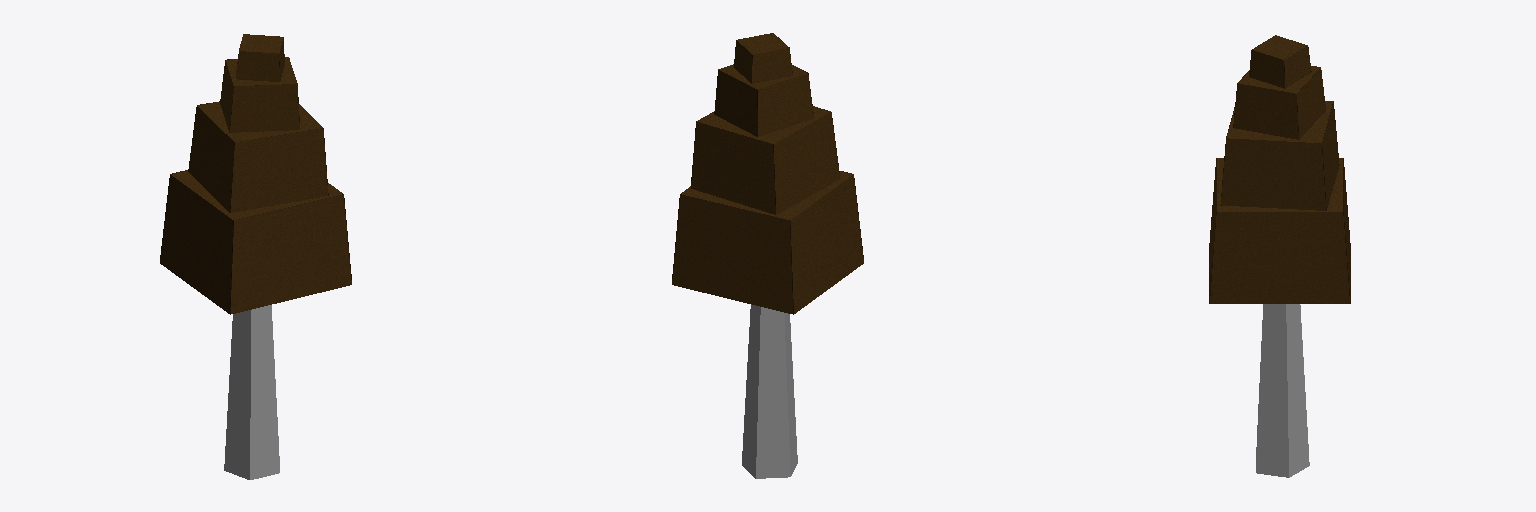
3 views of the same model, side by side, from view 1: azimuth 30°, elevation 25°; view 2: azimuth 150°, elevation 25°; view 3: azimuth 270°, elevation 25° (orthographic).
Parts seen in each view (by area): view 1: Cube, Cylinder_Cylinder.001; view 2: Cube, Cylinder_Cylinder.001; view 3: Cube, Cylinder_Cylinder.001.
Boxes of the visible parts, box(x1,y1,x2,y2) form: Cube: box(160, 34, 351, 314); Cylinder_Cylinder.001: box(224, 305, 279, 479); Cube: box(672, 33, 863, 314); Cylinder_Cylinder.001: box(742, 304, 797, 478); Cube: box(1209, 35, 1350, 303); Cylinder_Cylinder.001: box(1256, 304, 1309, 477).
Size of the model in its own units: 0.8629 by 2.85 by 0.8629.
Materials: 2 (1 with a texture image).